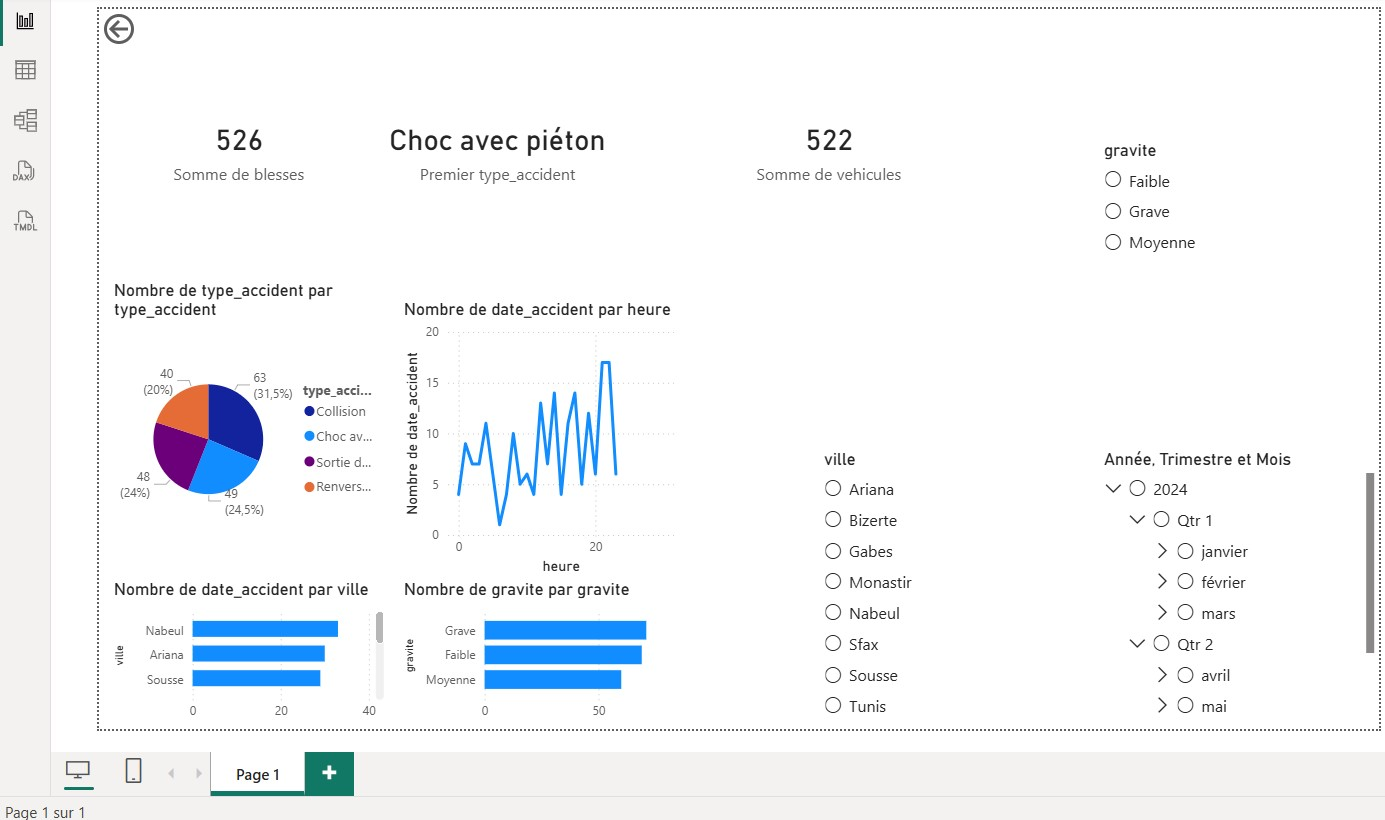

What the dashboard file says about the page in this screenshot:
{"tool":"powerbi","page":{"name":"Page 1","canvas":[1280,720],"ordinal":0},"visuals":[{"type":"card","fields":{"Values":["Sum(accidents.blesses)"]},"box":[0,0,280,280],"z":0},{"type":"card","fields":{"Values":["Min(accidents.type_accident)"]},"box":[258.8,0,280,280],"z":1000},{"type":"clusteredBarChart","fields":{"Category":["accidents.ville"],"Y":["CountNonNull(accidents.date_accident)"]},"box":[10,570,280,150],"z":2000},{"type":"pieChart","fields":{"Category":["accidents.type_accident"],"Y":["CountNonNull(accidents.type_accident)"]},"box":[0,280,280,280],"z":3000},{"type":"lineChart","fields":{"Category":["accidents.heure"],"Y":["CountNonNull(accidents.date_accident)"]},"box":[280,280,280,280],"z":4000},{"type":"barChart","fields":{"Category":["accidents.gravite"],"Y":["CountNonNull(accidents.gravite)"]},"box":[300,570,280,150],"z":5000},{"type":"card","fields":{"Values":["Sum(accidents.vehicules)"]},"box":[538.8,0,280,280],"z":6000},{"type":"actionButton","box":[0,0,100,40],"z":7000},{"type":"listSlicer","fields":{"Values":["accidents.ville"]},"box":[1081.2,510,198.8,210],"z":8000},{"type":"listSlicer","fields":{"Values":["accidents.gravite"]},"box":[596.2,510,202.5,210],"z":9000},{"type":"listSlicer","fields":{"Values":["accidents.date_accident.Variation.Hiérarchie de dates.Année","accidents.date_accident.Variation.Hiérarchie de dates.Trimestre","accidents.date_accident.Variation.Hiérarchie de dates.Mois","accidents.date_accident.Variation.Hiérarchie de dates.Jour"]},"box":[798.8,440,280,280],"z":10000}]}

Visuals, with their boxes on the page's 1280x720 design canvas (x1, y1, x2, y2). These are canvas units, not pixel positions in the 1385x820 screenshot, which may show the page scaled, cropped or inside an application window:
card - Sum(accidents.blesses): (x1=0, y1=0, x2=280, y2=280)
card - Min(accidents.type_accident): (x1=259, y1=0, x2=539, y2=280)
clusteredBarChart - accidents.ville x CountNonNull(accidents.date_accident): (x1=10, y1=570, x2=290, y2=720)
pieChart - accidents.type_accident x CountNonNull(accidents.type_accident): (x1=0, y1=280, x2=280, y2=560)
lineChart - accidents.heure x CountNonNull(accidents.date_accident): (x1=280, y1=280, x2=560, y2=560)
barChart - accidents.gravite x CountNonNull(accidents.gravite): (x1=300, y1=570, x2=580, y2=720)
card - Sum(accidents.vehicules): (x1=539, y1=0, x2=819, y2=280)
actionButton: (x1=0, y1=0, x2=100, y2=40)
listSlicer - accidents.ville: (x1=1081, y1=510, x2=1280, y2=720)
listSlicer - accidents.gravite: (x1=596, y1=510, x2=799, y2=720)
listSlicer - accidents.date_accident.Variation.Hiérarchie de dates.Année x accidents.date_accident.Variation.Hiérarchie de dates.Trimestre: (x1=799, y1=440, x2=1079, y2=720)
